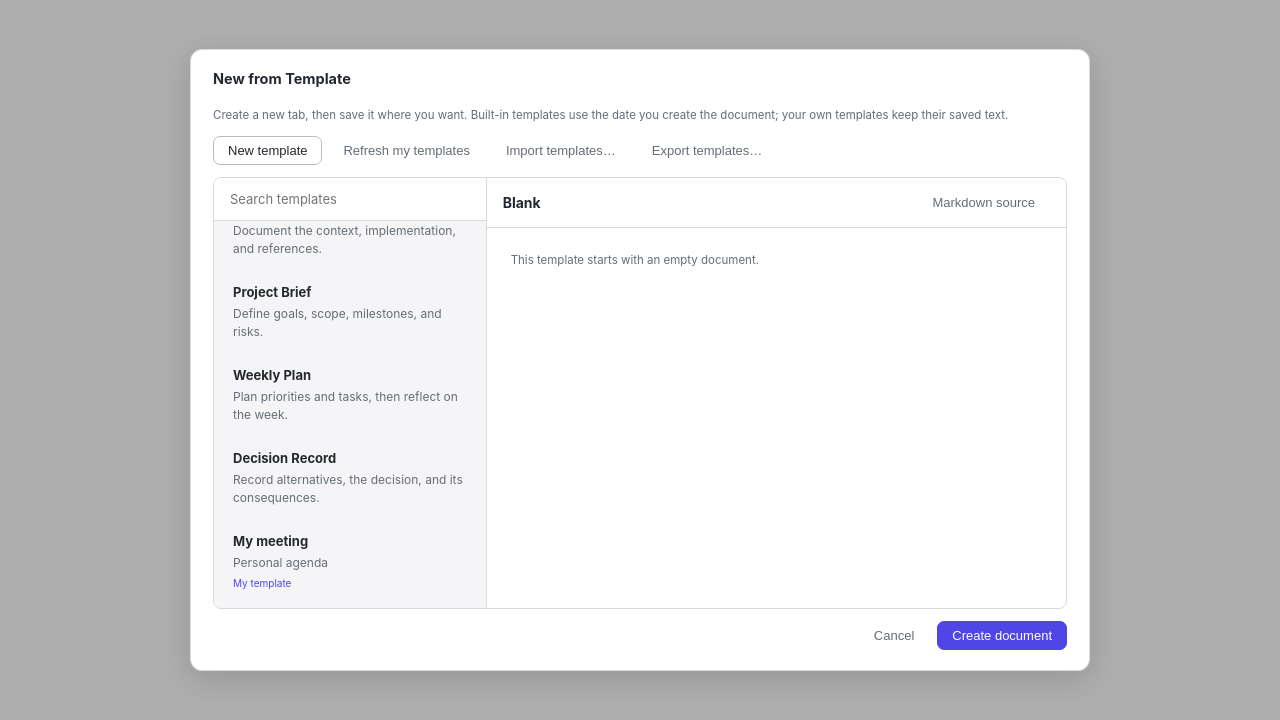
Test: 다른 창에서 선택한 템플릿을 삭제하면 새 문서 생성을 막는다
The image size is (1280, 720).
(page scrolled)
Click the radio button labelled "My meeting Personal agenda My template" at (350, 561), box [220,520,480,602]
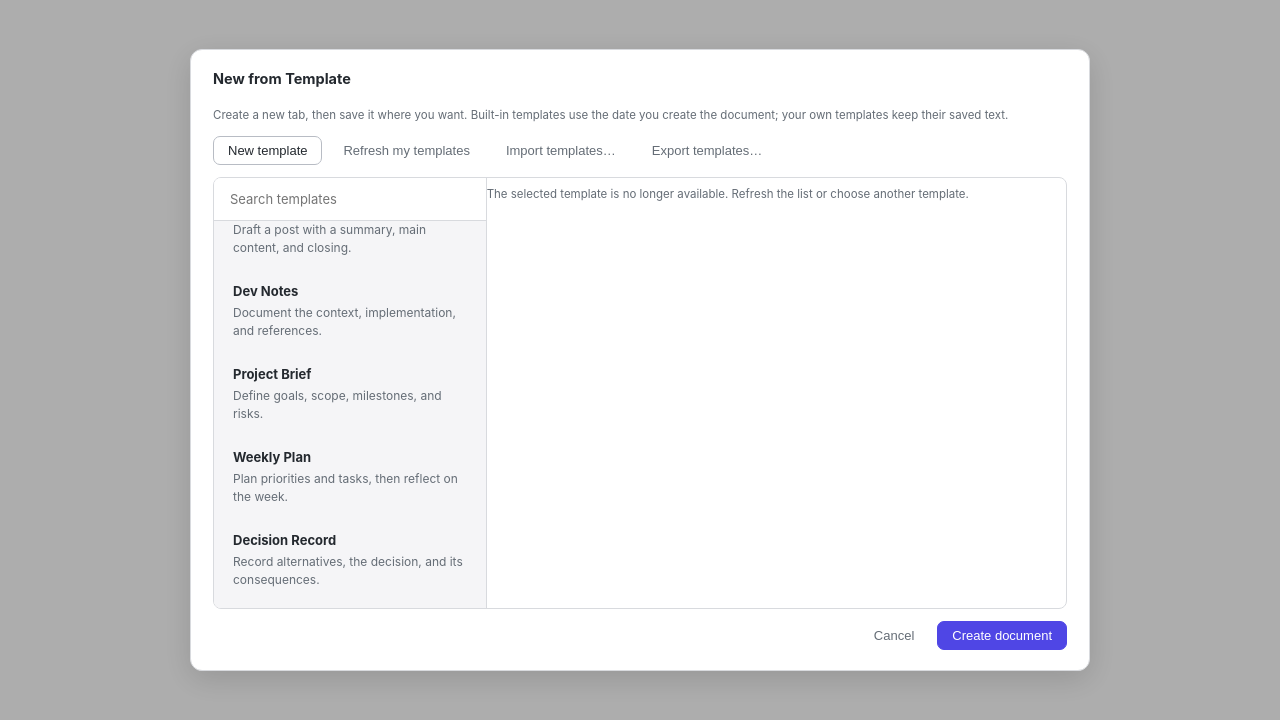
Expected: the button "Create document" is disabled, [937,621,1067,650]
Expected: the text "The selected template is no longer available. Refresh the list or choose another template." is shown, [487,187,969,201]
